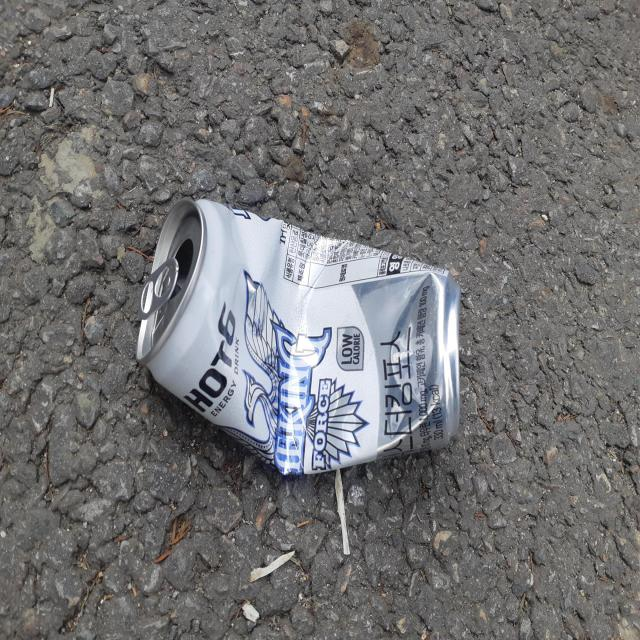can: (136, 199, 461, 475)
